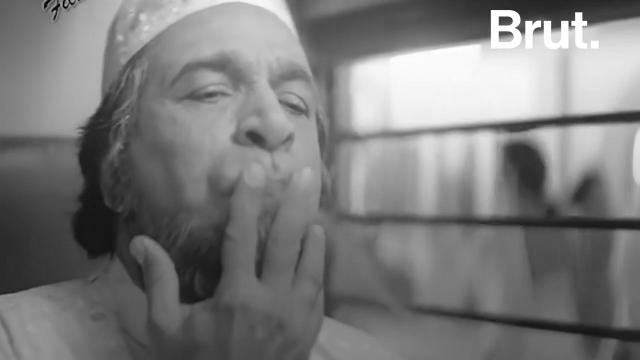spit: (184, 126, 450, 347)
